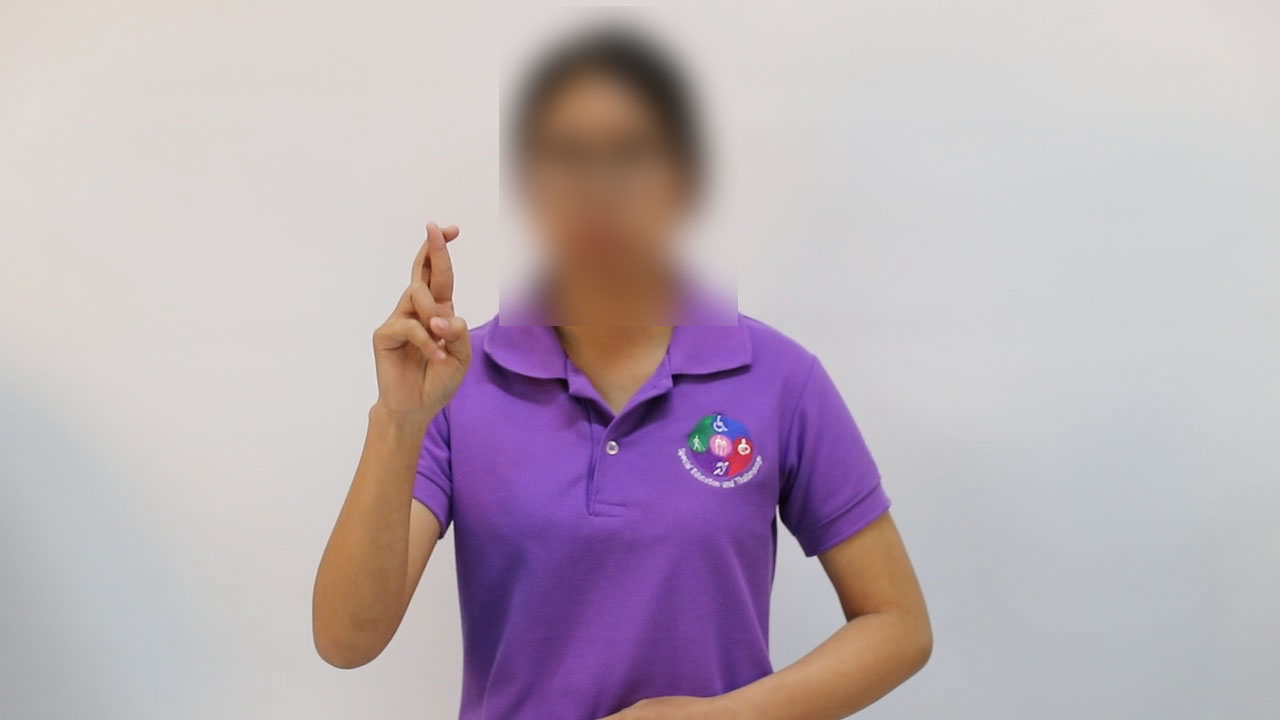rao: (342, 217, 477, 428)
